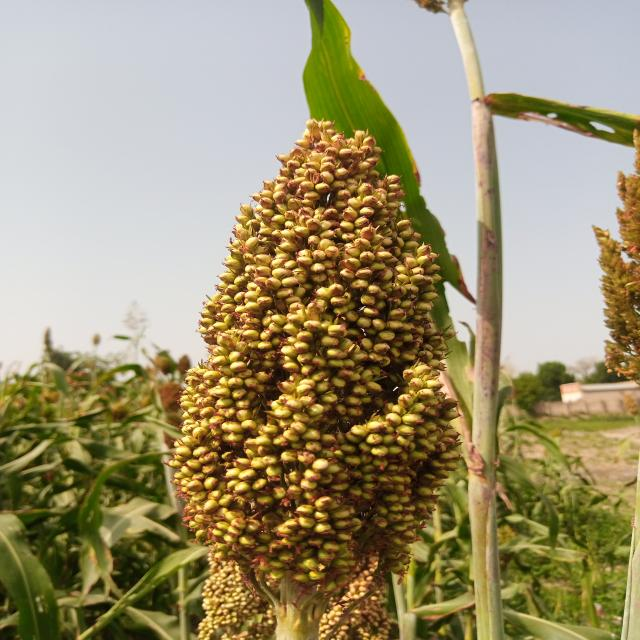UnripeSorghum: (163, 113, 472, 593)
